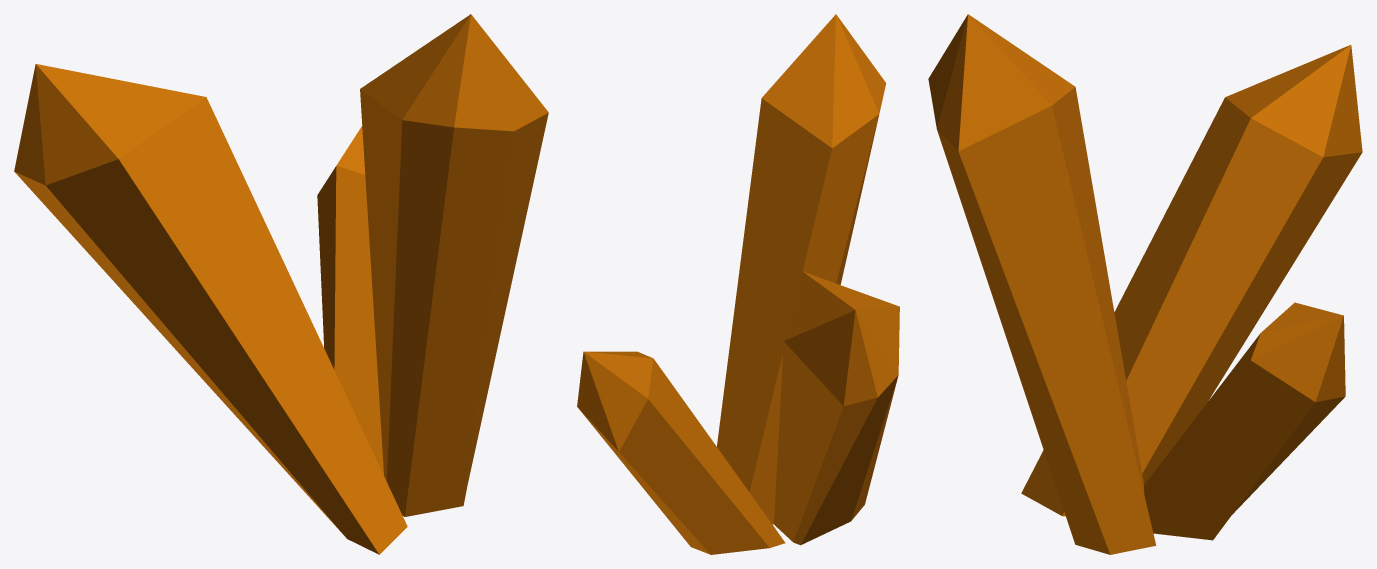
File: crystals 2nd.glb
3 views of the same model, side by side, from view 1: azimuth 30°, elevation 25°; view 2: azimuth 150°, elevation 25°; view 3: azimuth 270°, elevation 25° (orthographic). The views are drawn at different scales.
Parts seen in each view (by area): view 1: Cylinder.009; view 2: Cylinder.009; view 3: Cylinder.009.
Part boxes in pixels (x1,y1,x2,y2): Cylinder.009: [14, 14, 548, 554]; Cylinder.009: [577, 14, 899, 554]; Cylinder.009: [928, 14, 1362, 554].
Bounding box in the file's own units: 14.4 × 20.11 × 15.58.
